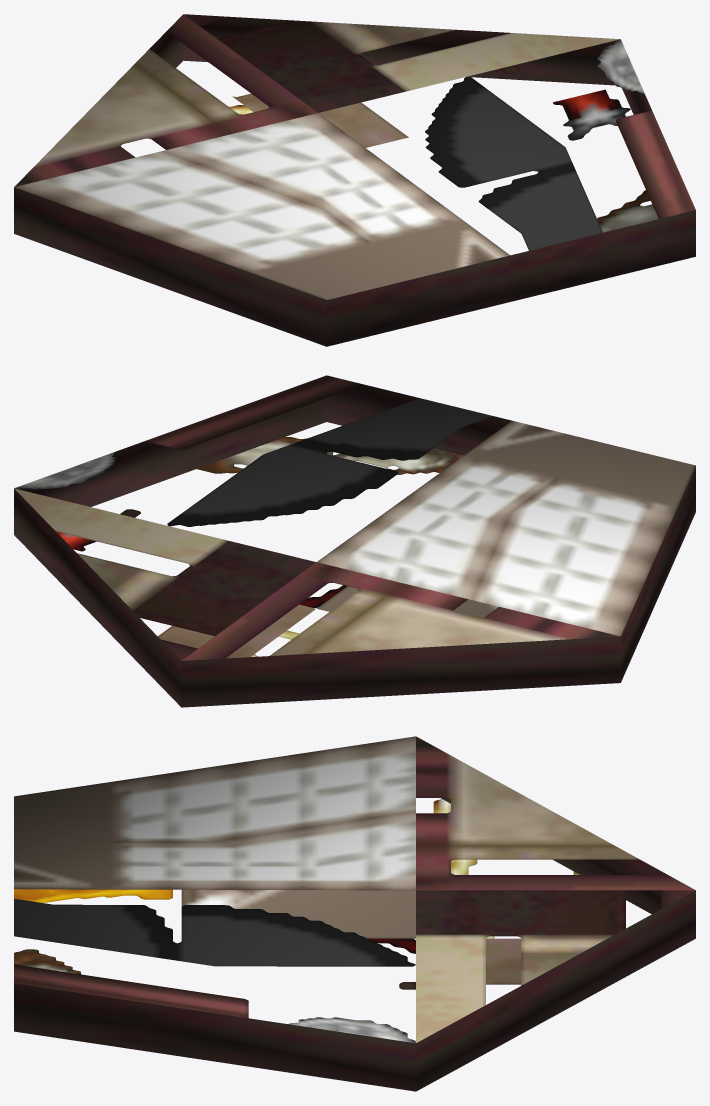
3 views of the same model, one above another, from view 1: azimuth 30°, elevation 25°; view 2: azimuth 150°, elevation 25°; view 3: azimuth 270°, elevation 25° (orthographic). The views are drawn at different scales.
Parts seen in each view (by area): view 1: T1L1M009_1; view 2: T1L1M009_1; view 3: T1L1M009_1.
Boxes of the visible parts, x1,y1,x2,y2 form: T1L1M009_1: (14,14,695,346); T1L1M009_1: (14,375,695,707); T1L1M009_1: (14,736,695,1091).
Size of the model in its own units: 0.3193 by 0.0234 by 0.2998.
